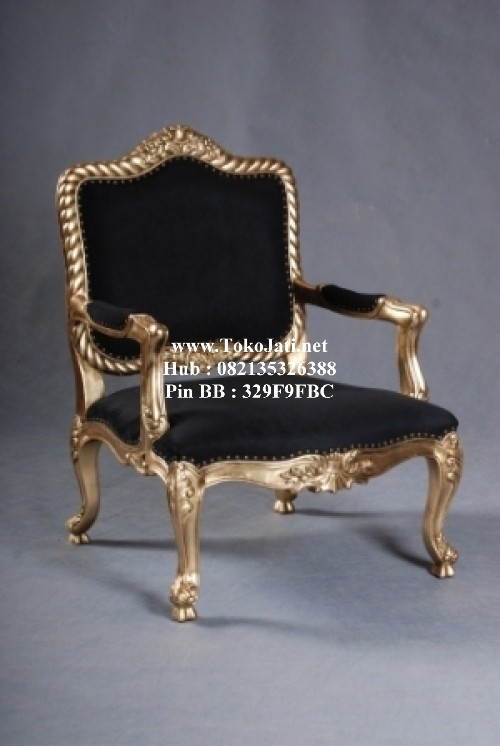Carving Chair: (41, 132, 465, 599)
